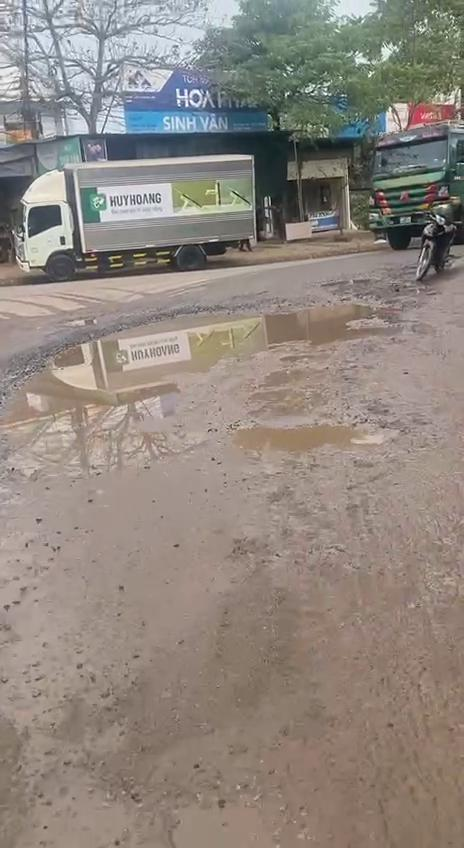pothole: (0, 295, 425, 484)
